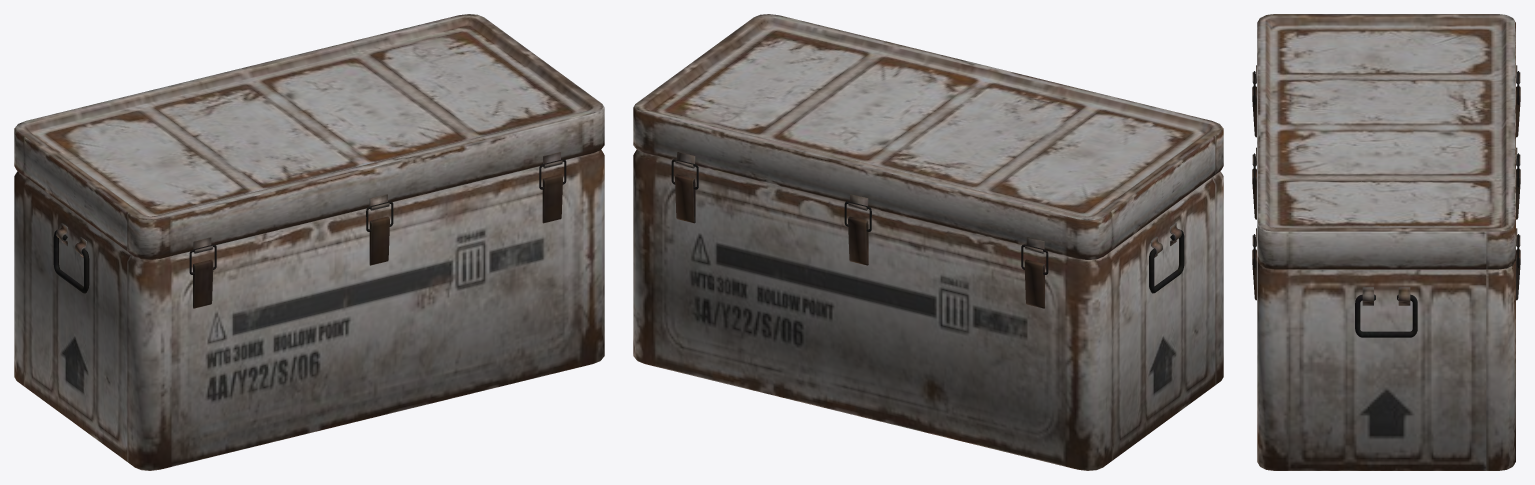
The model's file is metal_crate_e.glb.
3 views of the same model, side by side, from view 1: azimuth 30°, elevation 25°; view 2: azimuth 150°, elevation 25°; view 3: azimuth 270°, elevation 25° (orthographic). The views are drawn at different scales.
Visible parts, largest first — view 1: metal_crate_e_LOD0; view 2: metal_crate_e_LOD0; view 3: metal_crate_e_LOD0.
Part boxes in pixels (bbox=[...]): metal_crate_e_LOD0: bbox=[14, 14, 604, 470]; metal_crate_e_LOD0: bbox=[633, 14, 1223, 470]; metal_crate_e_LOD0: bbox=[1252, 14, 1520, 470].
Size of what is drawn, in the model's own units: 1.5 by 0.7466 by 0.7585.
1 material, 1 textured.
